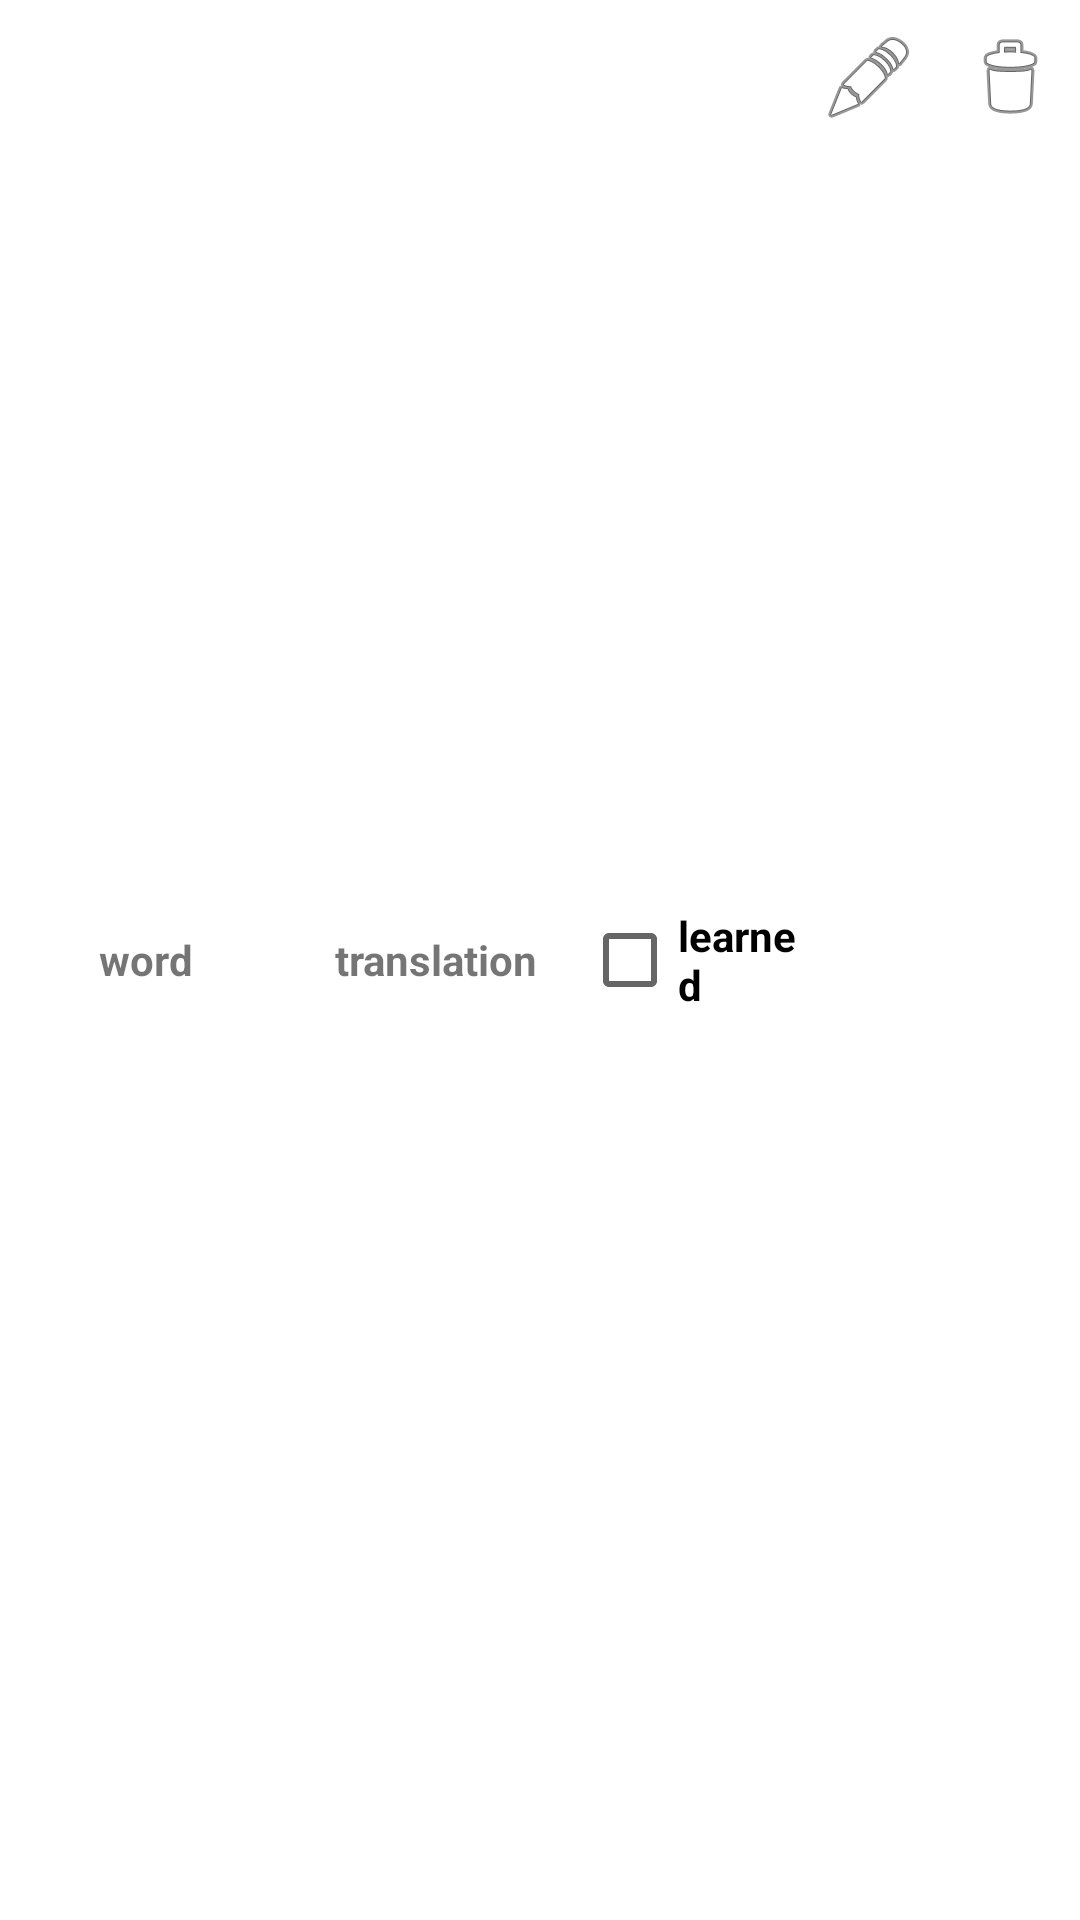

Icons on this 1080w x 1920h Android screen, each with its box as region(x1, y1, x2, y2):
delete: region(983, 39, 1038, 114)
edit: region(828, 37, 909, 118)
